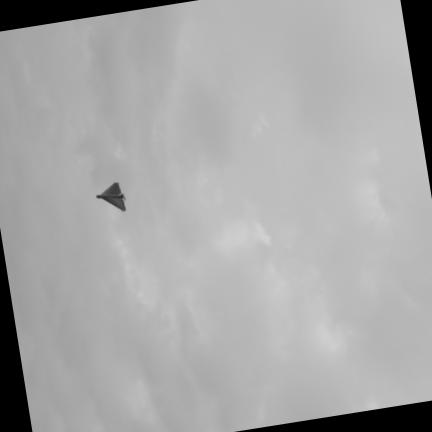Shahed: (96, 183, 124, 211)
